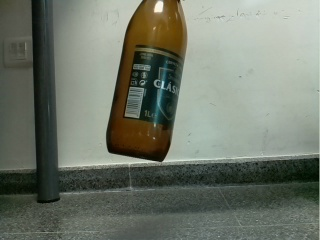pote cristal: (105, 1, 188, 162)
